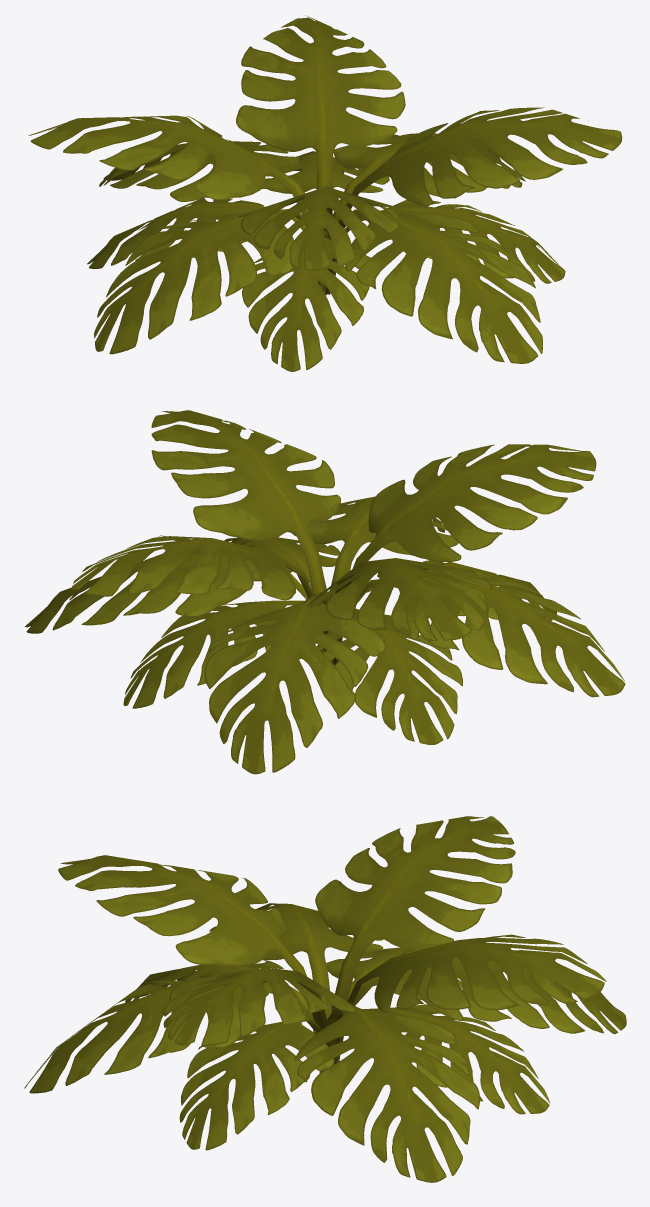
The model's file is SM_bush_01.fbx.
The picture shows the model from 3 angles, top to bottom: view 1: azimuth 30°, elevation 25°; view 2: azimuth 150°, elevation 25°; view 3: azimuth 270°, elevation 25°; orthographic projection. The views are drawn at different scales.
Visible parts, largest first — view 1: SM_bush_01_LOD0; view 2: SM_bush_01_LOD0; view 3: SM_bush_01_LOD0.
Part boxes in pixels (left/top/right/bottom): SM_bush_01_LOD0: left=28, top=15, right=622, bottom=371; SM_bush_01_LOD0: left=25, top=410, right=625, bottom=774; SM_bush_01_LOD0: left=24, top=816, right=626, bottom=1182.
Bounding box in the file's own units: 323 × 326 × 106.
1 material, 1 textured.
